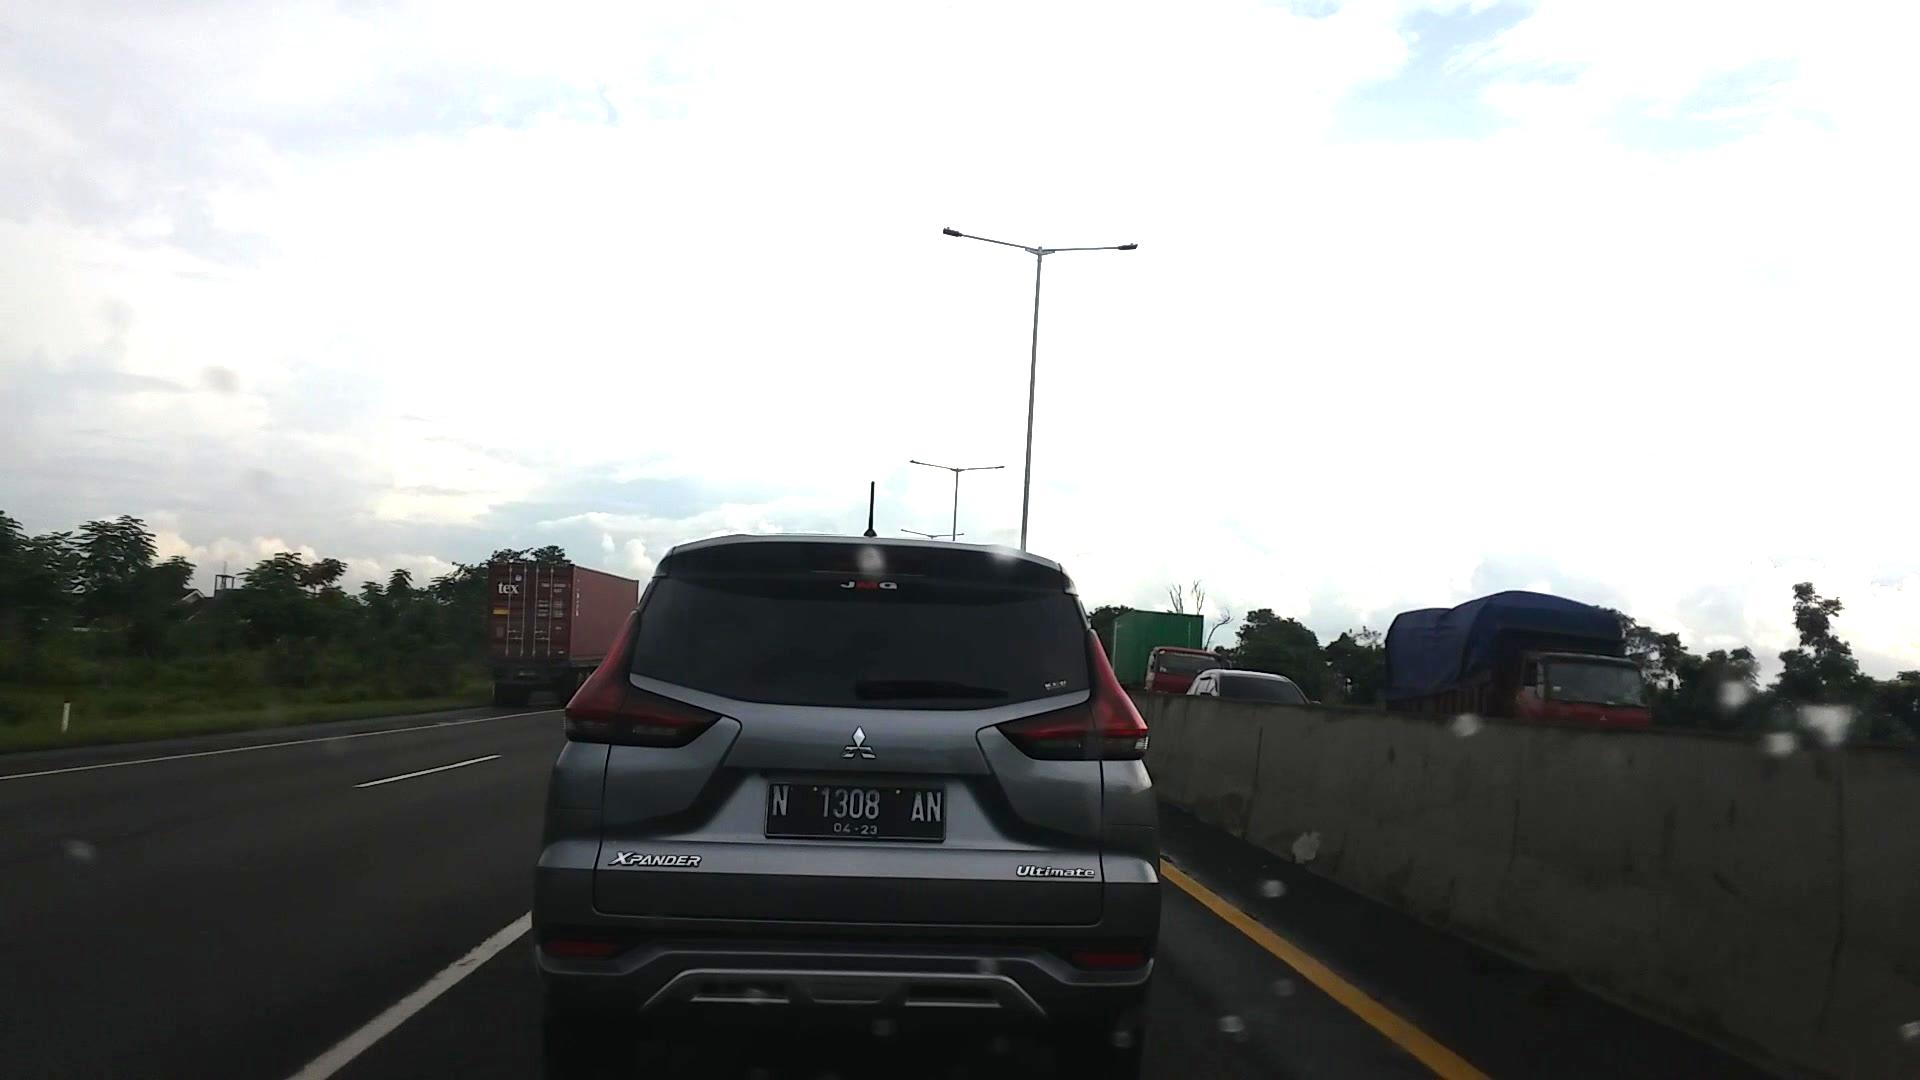plate_positive: (764, 781, 945, 843)
